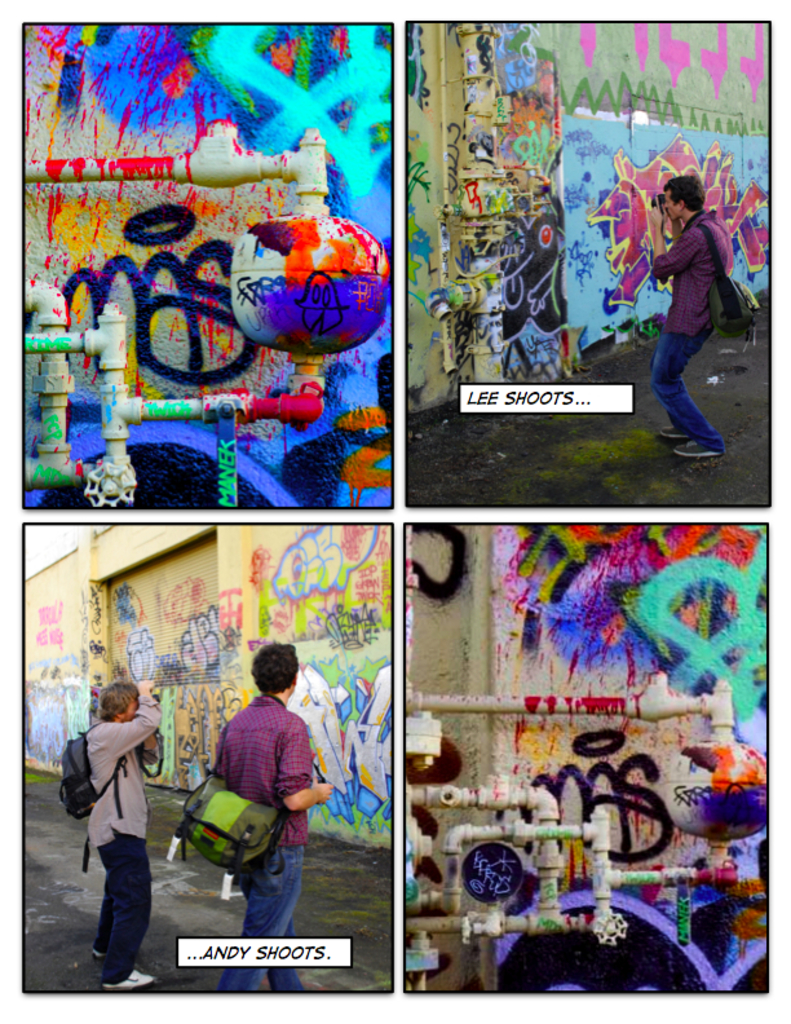Person: (51, 681, 182, 995)
